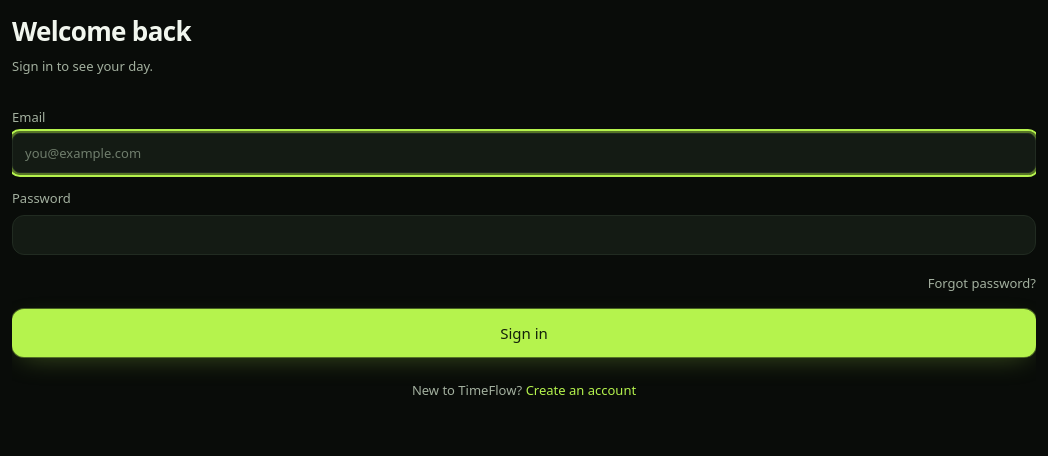
Test case: Login form › validates before sending anything
This screenshot has width=1048, height=456.
Click the button "Sign in" at [524, 333], box x1=12 y1=309 x2=1036 y2=357
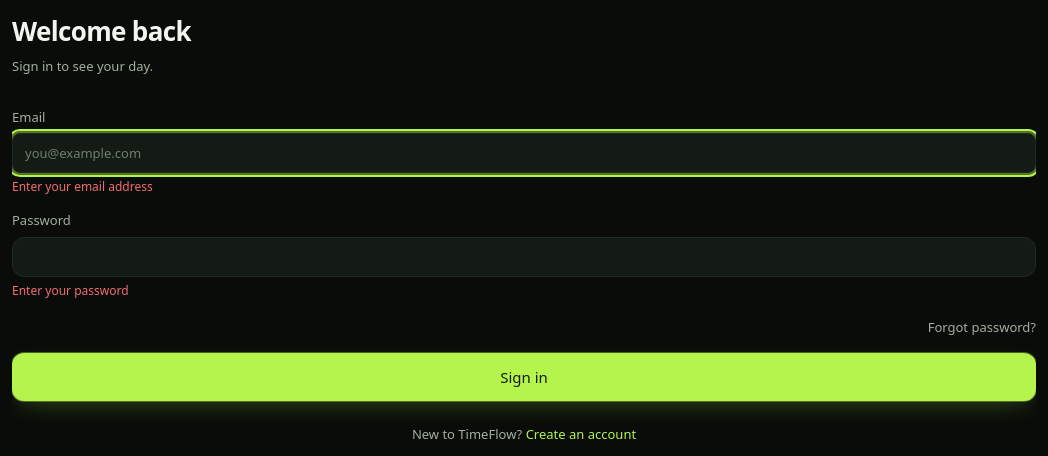
Expected: the text "Enter your email address" is shown, x1=12 y1=178 x2=153 y2=195
Expected: the text "Enter your password" is shown, x1=12 y1=282 x2=128 y2=299
